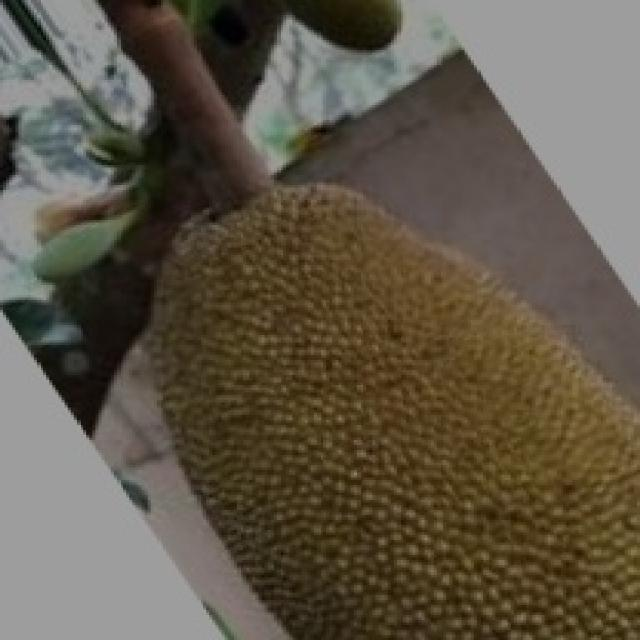Fruit: (255, 245, 640, 637), (246, 0, 425, 78)
